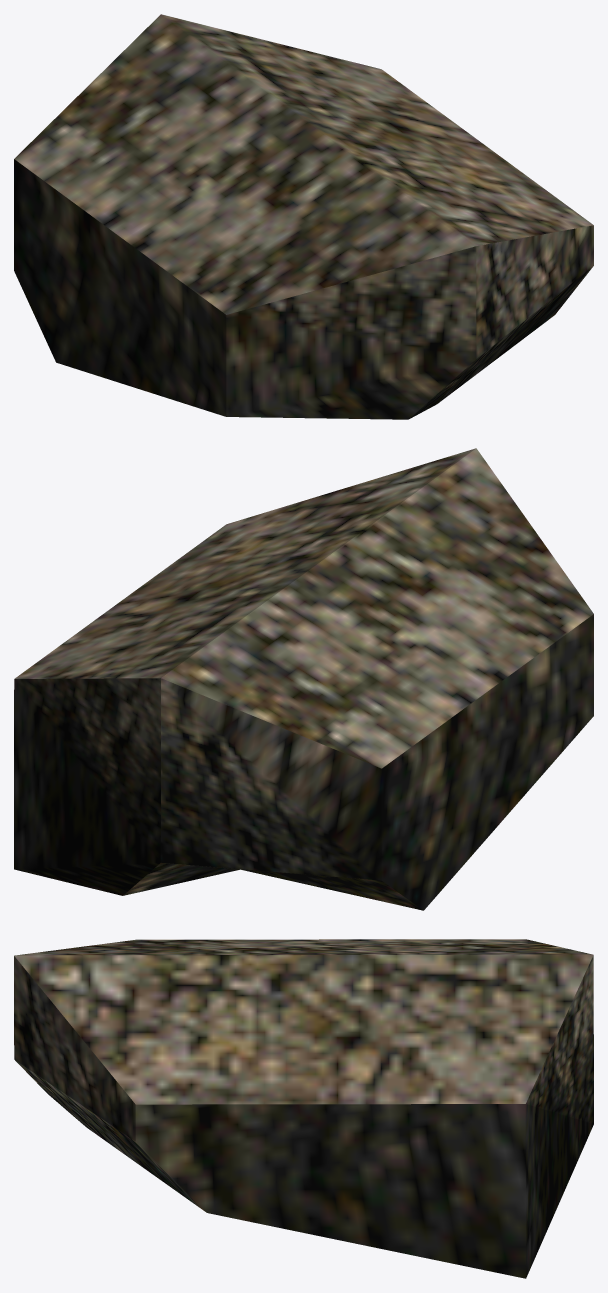
The model's file is rock_2.fbx.
3 renders of one model, top to bottom at view 1: azimuth 30°, elevation 25°; view 2: azimuth 150°, elevation 25°; view 3: azimuth 270°, elevation 25°, orthographic. The views are drawn at different scales.
Visible parts, largest first — view 1: rock2; view 2: rock2; view 3: rock2.
Boxes of the visible parts, x1=… form: rock2: x1=14, y1=14, x2=593, y2=419; rock2: x1=14, y1=448, x2=593, y2=910; rock2: x1=14, y1=939, x2=593, y2=1278.
Size of the model in its own units: 200 by 137 by 297.
